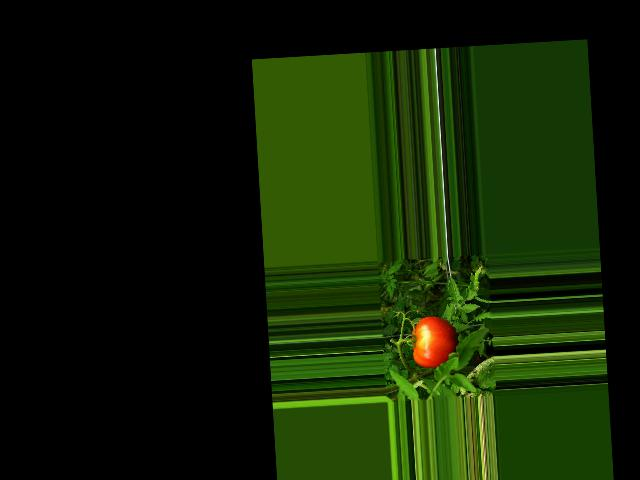tomato: (410, 315, 458, 368)
